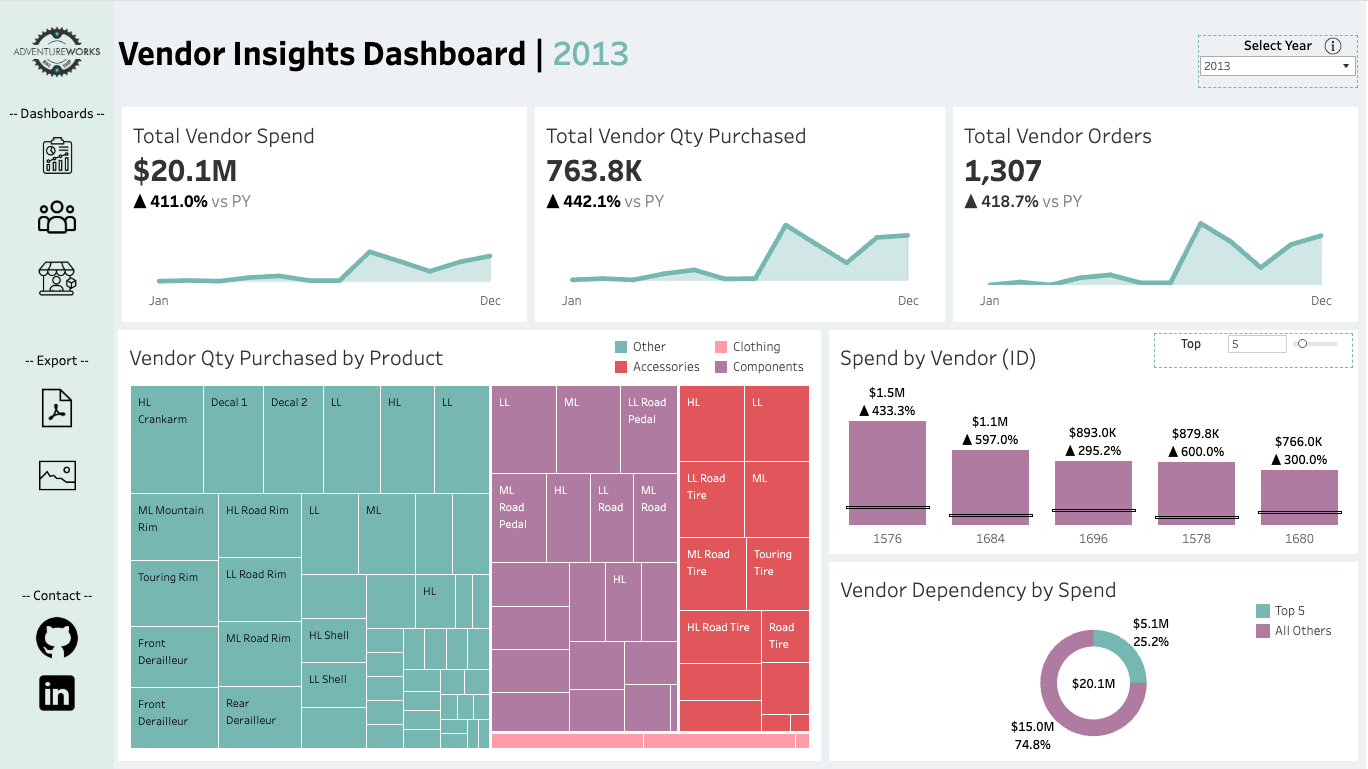

Layout of this report page (visuals, bound fields, positions):
{"tool":"tableau","page":{"name":"Vendor Insights Dashboard","canvas":[1366,768],"ordinal":2},"visuals":[{"type":"image","param":"/Users/yishakali/Desktop/Data Sci/06. Personal Projects/AdventureWorks Analytics","box":[0,0,114,102]},{"type":"text","box":[114,0,1252,102]},{"type":"parameter","param":"[Parameters].[Parameter 1]","box":[1198,34,160,53]},{"type":"dashboard-object","box":[1324,38,18,18]},{"type":"text","box":[120,79,491,30]},{"type":"text","box":[0,102,114,18]},{"type":"worksheet","title":"Vendor Spend by Month","mark":"Area","rows":["Calculation_6616843435896078336","Calculation_6616843435896078336"],"cols":["orderdate (purchase!header)"],"box":[114,102,417.3,223]},{"type":"worksheet","title":"Purchase Qty by Month","mark":"Line","rows":["Calculation_1143984726602223616","Calculation_1143984726602223616"],"cols":["orderdate (purchase!header)"],"box":[531.3,102,417.3,223]},{"type":"worksheet","title":"Purchase Orders by Month","mark":"Area","rows":["Calculation_1283737052548915201","Calculation_1283737052548915201"],"cols":["orderdate (purchase!header)"],"box":[948.6,102,417.3,223]},{"type":"blank","box":[0,120,114,10]},{"type":"dashboard-object","box":[0,130,114,47]},{"type":"blank","box":[0,177,114,15]},{"type":"dashboard-object","box":[0,192,114,46]},{"type":"blank","box":[0,238,114,15]},{"type":"dashboard-object","box":[0,253,114,47]},{"type":"blank","box":[0,303,114,32]},{"type":"worksheet","title":"Purchase Qty by Product","mark":"Automatic","box":[114,325,711,443]},{"type":"worksheet","title":"Spend by Vendor","mark":"Bar","rows":["Calculation_6616843435896078336","CY Purchasing Amount (copy)_860680162503421953"],"cols":["vendorid"],"box":[825,325,541,232]},{"type":"parameter","param":"[Parameters].[Parameter 5]","box":[1154,332,199,35]},{"type":"blank","box":[0,335,114,10]},{"type":"legend","title":"Purchase Qty by Product","param":"[federated.1k55lu20gfdgr814uvumb09fc8rh].[none:name (categories):nk]","box":[611,336,211,49]},{"type":"text","box":[0,345,114,26]},{"type":"text","box":[582,357,198,30]},{"type":"blank","box":[0,371,114,10]},{"type":"dashboard-object","box":[0,381,114,50]},{"type":"blank","box":[0,431,114,20]},{"type":"dashboard-object","box":[0,451,114,45]},{"type":"blank","box":[0,496,114,40]},{"type":"worksheet","title":"Vendor Dependency","mark":"Pie","rows":["Calculation_4341470092517289987","Calculation_4341470092517289987"],"box":[825,557,541,211]},{"type":"text","box":[4,580,106,26]},{"type":"image","param":"/Users/yishakali/Desktop/Data Sci/06. Personal Projects/AdventureWorks Analytics","box":[4,606,106,60]},{"type":"image","param":"/Users/yishakali/Desktop/Data Sci/06. Personal Projects/AdventureWorks Analytics","box":[4,666,106,50]}]}

Visuals, with their boxes in screenshot pixels (x1, y1, x2, y2), scaled from the page's 1366x768 canvas onto the 1368x769 screenshot:
image: detection(0, 0, 114, 102)
text: detection(114, 0, 1367, 102)
parameter: detection(1200, 34, 1360, 87)
dashboard-object: detection(1326, 38, 1344, 56)
text: detection(120, 79, 612, 109)
text: detection(0, 102, 114, 120)
"Vendor Spend by Month" worksheet (Area marks): detection(114, 102, 532, 325)
"Purchase Qty by Month" worksheet (Line marks): detection(532, 102, 950, 325)
"Purchase Orders by Month" worksheet (Area marks): detection(950, 102, 1367, 325)
blank: detection(0, 120, 114, 130)
dashboard-object: detection(0, 130, 114, 177)
blank: detection(0, 177, 114, 192)
dashboard-object: detection(0, 192, 114, 238)
blank: detection(0, 238, 114, 253)
dashboard-object: detection(0, 253, 114, 300)
blank: detection(0, 303, 114, 335)
"Purchase Qty by Product" worksheet: detection(114, 325, 826, 768)
"Spend by Vendor" worksheet (Bar marks): detection(826, 325, 1367, 558)
parameter: detection(1156, 332, 1355, 367)
blank: detection(0, 335, 114, 345)
"Purchase Qty by Product" legend: detection(612, 336, 823, 386)
text: detection(0, 345, 114, 371)
text: detection(583, 357, 781, 388)
blank: detection(0, 371, 114, 381)
dashboard-object: detection(0, 381, 114, 432)
blank: detection(0, 432, 114, 452)
dashboard-object: detection(0, 452, 114, 497)
blank: detection(0, 497, 114, 537)
"Vendor Dependency" worksheet (Pie marks): detection(826, 558, 1367, 768)
text: detection(4, 581, 110, 607)
image: detection(4, 607, 110, 667)
image: detection(4, 667, 110, 717)
